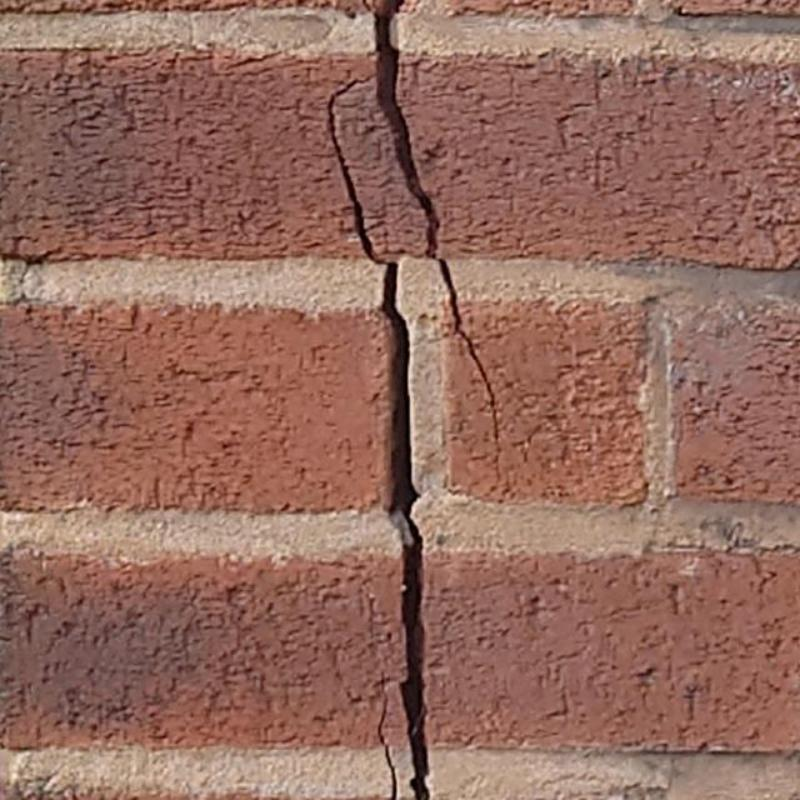pothole: (381, 261, 430, 800), (373, 0, 438, 257), (438, 259, 498, 441), (328, 80, 381, 262), (378, 677, 397, 799)
